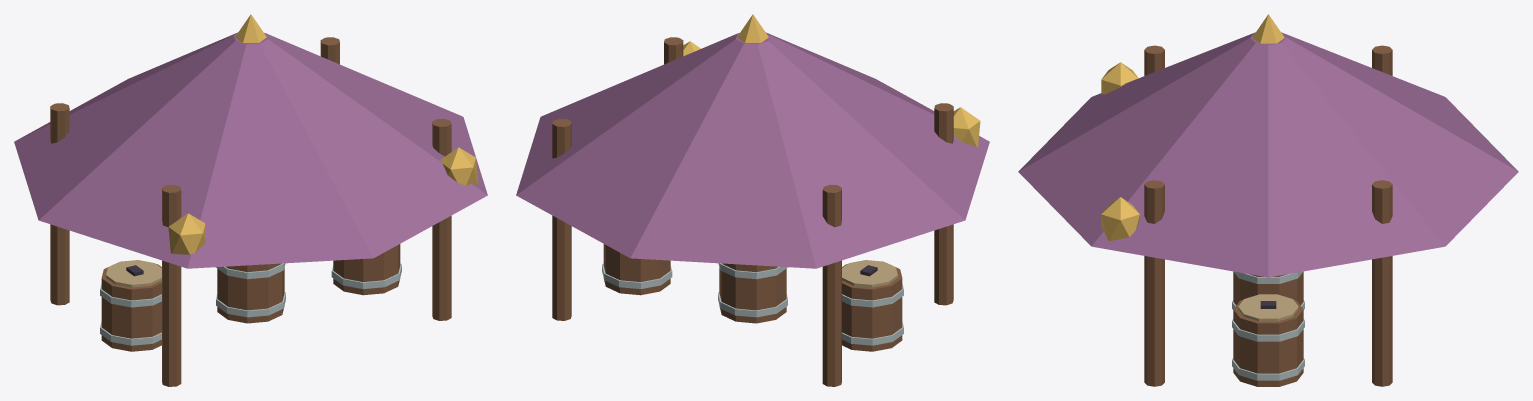
File: festival.glb
3 renders of one model, left to right at view 1: azimuth 30°, elevation 25°; view 2: azimuth 150°, elevation 25°; view 3: azimuth 270°, elevation 25°, orthographic. The views are drawn at different scales.
Visible parts, largest first — view 1: Cone.114, Cone.116, Cone.110, Cone.120, Cone.112, Cone.111, Cone.124, Icosphere.068, Cone.119, Icosphere.070, Cone.125, Cone.121 (+5 smaller); view 2: Cone.114, Cone.116, Cone.111, Cone.120, Cone.113, Cone.110, Cone.124, Cone.119, Icosphere.068, Cone.125, Cone.121, Cone.115 (+4 smaller); view 3: Cone.114, Cone.124, Cone.112, Cone.113, Cone.120, Icosphere.070, Cone.127, Icosphere.068, Cone.125, Cone.126, Cone.115, Cone.110 (+2 smaller).
Part boxes in pixels (<box>): Cone.114: <box>14,32,487,268</box>; Cone.116: <box>101,263,161,351</box>; Cone.110: <box>162,184,181,386</box>; Cone.120: <box>217,263,284,323</box>; Cone.112: <box>432,118,451,320</box>; Cone.111: <box>50,103,69,305</box>; Cone.124: <box>333,244,400,295</box>; Icosphere.068: <box>168,213,205,254</box>; Cone.119: <box>106,260,161,287</box>; Icosphere.070: <box>440,147,478,185</box>; Cone.125: <box>331,263,401,288</box>; Cone.121: <box>216,292,285,317</box>; Cone.114: <box>516,32,989,268</box>; Cone.116: <box>842,263,902,351</box>; Cone.111: <box>822,184,841,386</box>; Cone.120: <box>719,263,786,323</box>; Cone.113: <box>552,118,571,320</box>; Cone.110: <box>934,103,953,305</box>; Cone.124: <box>603,244,670,295</box>; Cone.119: <box>842,260,897,287</box>; Icosphere.068: <box>953,107,980,147</box>; Cone.125: <box>602,263,672,288</box>; Cone.121: <box>718,292,787,317</box>; Cone.115: <box>737,14,768,42</box>; Cone.114: <box>1018,32,1518,277</box>; Cone.124: <box>1233,300,1303,386</box>; Cone.112: <box>1144,180,1164,386</box>; Cone.113: <box>1372,180,1392,386</box>; Cone.120: <box>1233,272,1303,305</box>; Icosphere.070: <box>1101,197,1139,241</box>; Cone.127: <box>1238,294,1298,321</box>; Icosphere.068: <box>1101,62,1138,94</box>; Cone.125: <box>1232,358,1304,380</box>; Cone.126: <box>1232,319,1304,341</box>; Cone.115: <box>1252,14,1284,43</box>; Cone.110: <box>1144,45,1164,75</box>.
Bounding box in the file's own units: 2.2 × 1.46 × 2.2.
